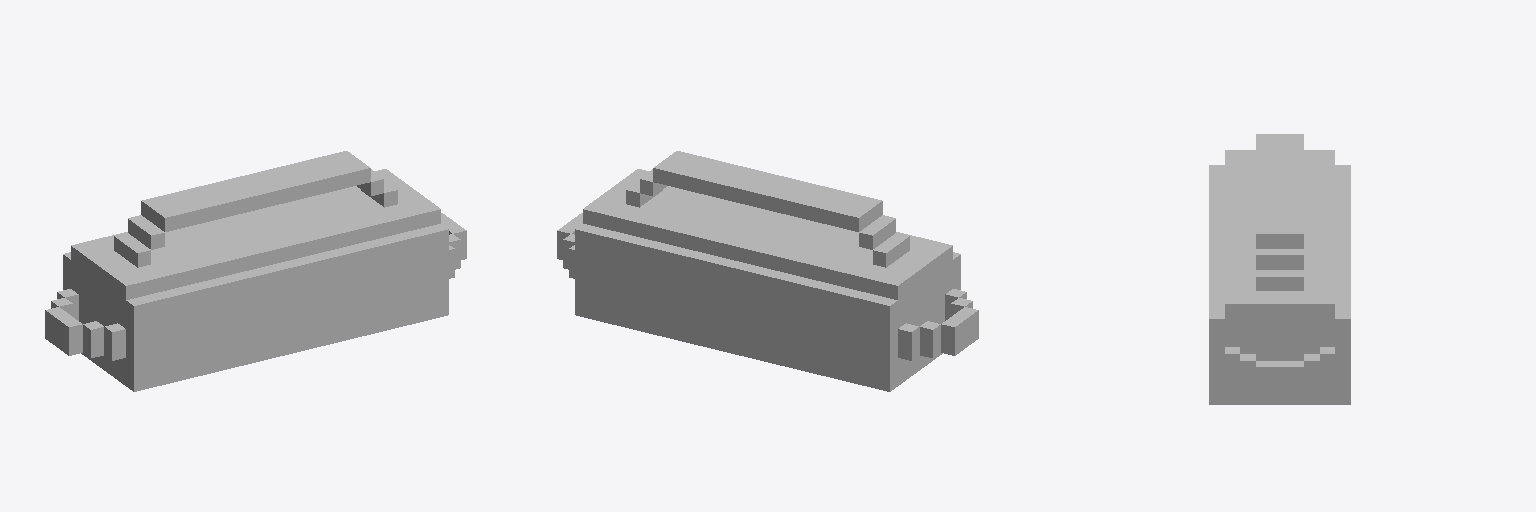
The model's file is ammo.obj.
3 renders of one model, left to right at view 1: azimuth 30°, elevation 25°; view 2: azimuth 150°, elevation 25°; view 3: azimuth 270°, elevation 25°, orthographic.
Visible parts, largest first — view 1: object 1; view 2: object 1; view 3: object 1.
Part boxes in pixels (x1,y1,x2,y2): object 1: (45, 151, 466, 391); object 1: (557, 151, 978, 391); object 1: (1209, 134, 1350, 404).
Size of the model in its own units: 2.9 by 1 by 0.9.